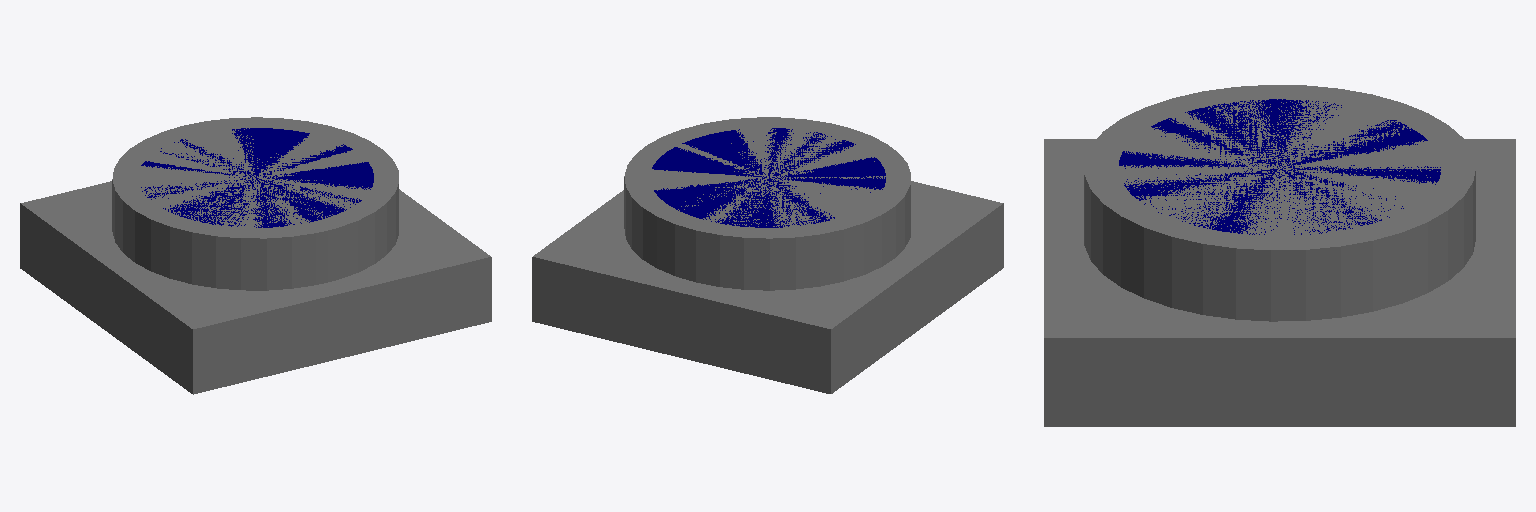
The robot description file, URDF, robot "base-l.SLDASM":
<?xml version="1.0" encoding="utf-8"?>
<!-- This URDF was automatically created by SolidWorks to URDF Exporter! Originally created by [author] ([email redacted]) 
     Commit Version: 1.6.0-4-g7f85cfe  Build Version: 1.6.7995.38578
     For more information, please see http://wiki.ros.org/sw_urdf_exporter -->
<robot
  name="base-l.SLDASM">
  <link
    name="b_body">
    <inertial>
      <origin
        xyz="-9.4624E-18 1.1154E-17 0.022042"
        rpy="0 0 0" />
      <mass
        value="5.9754" />
      <inertia
        ixx="0.009154"
        ixy="1.7613E-19"
        ixz="-3.4018E-19"
        iyy="0.009154"
        iyz="3.3647E-19"
        izz="0.015925" />
    </inertial>
    <visual>
      <origin
        xyz="0 0 0"
        rpy="0 0 0" />
      <geometry>
        <mesh
          filename="package://base-l.SLDASM/meshes/b_body.STL" />
      </geometry>
      <material
        name="body">
        <color
          rgba="0.5 0.5 0.5 1" />
      </material>
    </visual>
    <collision>
      <origin
        xyz="0 0 0"
        rpy="0 0 0" />
      <geometry>
        <mesh
          filename="package://base-l.SLDASM/meshes/b_body.STL" />
      </geometry>
    </collision>
  </link>
  <link
    name="b_in">
    <inertial>
      <origin
        xyz="-9.4624E-18 -5.3214E-19 0.029258"
        rpy="0 0 0" />
      <mass
        value="5.9754" />
      <inertia
        ixx="0.009154"
        ixy="-1.7613E-19"
        ixz="3.3605E-19"
        iyy="0.009154"
        iyz="3.3422E-19"
        izz="0.015925" />
    </inertial>
    <visual>
      <origin
        xyz="0 0 0"
        rpy="0 0 0" />
      <geometry>
        <mesh
          filename="package://base-l.SLDASM/meshes/b_in.STL" />
      </geometry>
      <material
        name="blue">
        <color
          rgba="0 0 0.5 1" />
      </material>
    </visual>
    <collision>
      <origin
        xyz="0 0 0"
        rpy="0 0 0" />
      <geometry>
        <mesh
          filename="package://base-l.SLDASM/meshes/b_in.STL" />
      </geometry>
    </collision>
  </link>
  <joint
    name="b_large"
    type="fixed">
    <origin
      xyz="0 0 0.0513"
      rpy="3.14159265358979 0 0" />
    <parent
      link="b_body" />
    <child
      link="b_in" />
    <axis
      xyz="0 0 1" />
  </joint>
</robot>

--- Facts derived from the render (not from the file) ---
The picture shows the robot from 3 angles, left to right: view 1: azimuth 30°, elevation 25°; view 2: azimuth 150°, elevation 25°; view 3: azimuth 270°, elevation 25°; orthographic projection.
Model base-l.SLDASM with 2 links and 1 joints (1 fixed), rooted at b_body, posed every joint at zero.
Visible links, largest first — view 1: b_body, b_in; view 2: b_body, b_in; view 3: b_body, b_in.
Boxes of the visible links, x1,y1,x2,y2 form: b_body: (20,117,491,394); b_in: (141,128,373,227); b_body: (532,117,1003,393); b_in: (652,128,885,227); b_body: (1044,85,1515,426); b_in: (1119,99,1440,234).
Size in the robot's own frame: 0.1368 by 0.1368 by 0.0513 metres.
Meshes: 2 distinct files referenced, 2 mesh visuals loaded (2 binary STL).